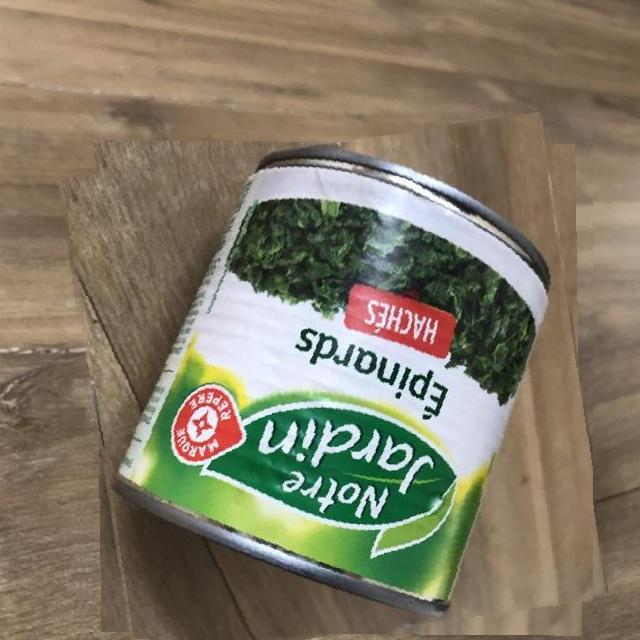recyclable: (74, 127, 593, 640)
